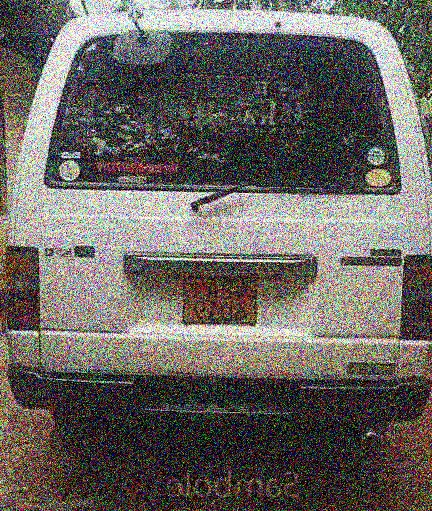van: (1, 14, 423, 438)
